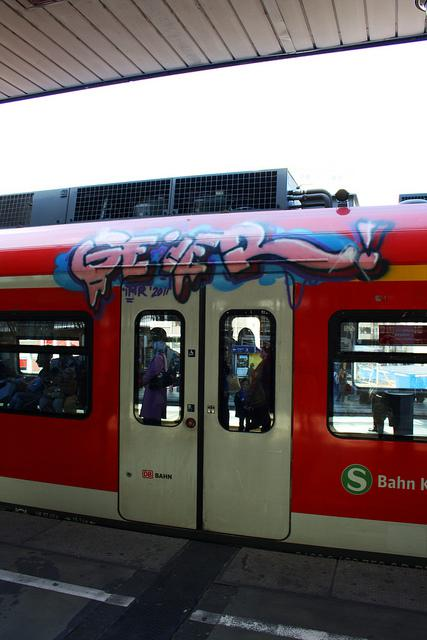Train: (0, 192, 425, 569)
